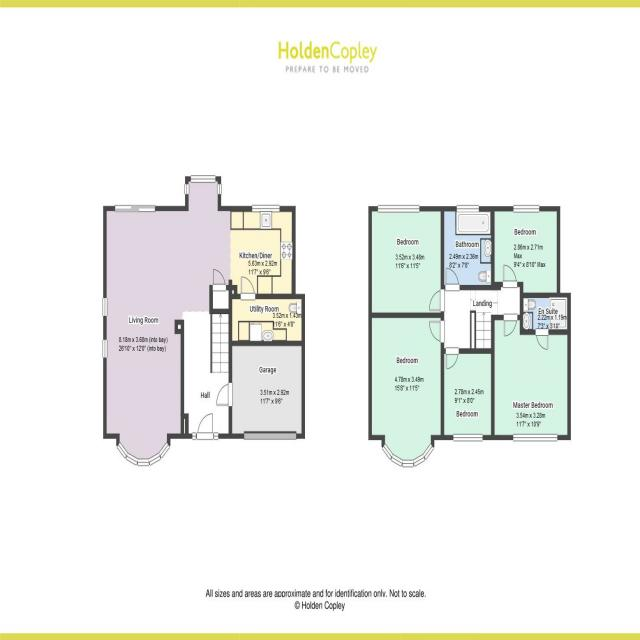DOOR: (502, 260, 519, 290), (215, 381, 234, 407), (427, 319, 446, 345), (196, 412, 213, 441), (427, 289, 447, 312), (444, 266, 461, 293), (503, 312, 519, 340), (445, 346, 461, 372), (534, 327, 550, 352), (240, 275, 255, 301), (213, 267, 227, 292)
ROOM: (102, 173, 297, 471), (367, 310, 445, 471), (490, 313, 572, 441), (368, 205, 445, 319), (490, 203, 561, 299), (490, 205, 561, 298), (439, 345, 495, 442)
WINDOW: (377, 203, 420, 214), (114, 203, 156, 214), (512, 433, 558, 442), (452, 432, 484, 443), (513, 203, 540, 214), (456, 203, 480, 214), (252, 204, 280, 213), (116, 441, 129, 460), (158, 441, 171, 460), (381, 442, 394, 461), (190, 174, 216, 183), (423, 443, 435, 462), (124, 451, 138, 467), (413, 453, 427, 468), (390, 453, 403, 468), (149, 452, 162, 466), (401, 458, 414, 468), (137, 457, 149, 467), (102, 297, 108, 317), (102, 339, 108, 359), (184, 184, 190, 195), (217, 183, 222, 195), (214, 432, 219, 440), (192, 432, 196, 441)
